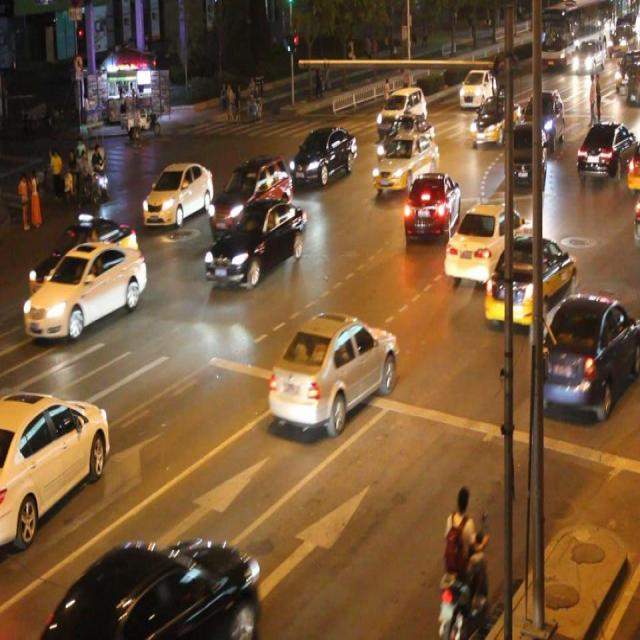car: (44, 538, 261, 640), (268, 310, 397, 433), (0, 390, 110, 524), (534, 291, 640, 417), (23, 238, 146, 338), (29, 215, 138, 299), (205, 198, 306, 286), (483, 234, 576, 324), (208, 154, 292, 237), (444, 201, 532, 280), (142, 161, 214, 228), (289, 125, 356, 186), (403, 170, 460, 241), (371, 132, 438, 192), (575, 119, 632, 176), (376, 115, 434, 168), (376, 86, 428, 138), (503, 120, 544, 184), (467, 95, 521, 143)
